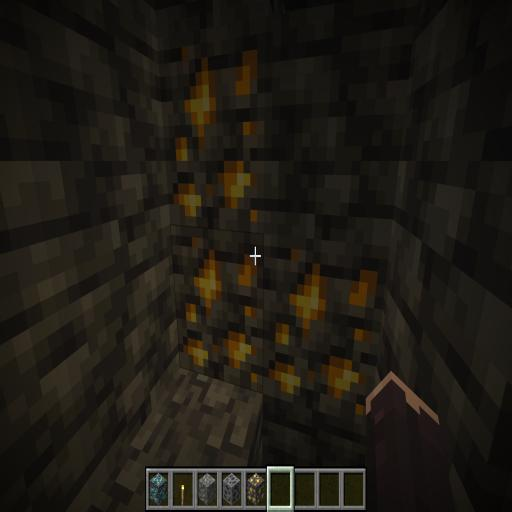gold ore: (156, 41, 380, 430)
